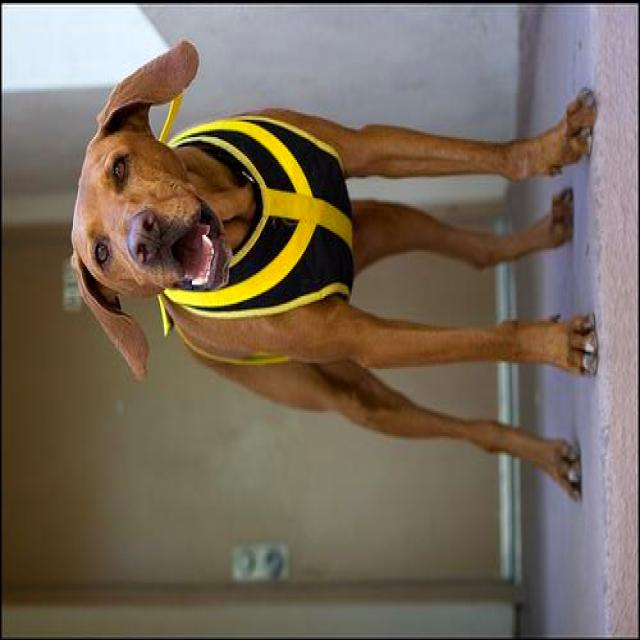rhodesian_ridgeback: (61, 30, 599, 502)
